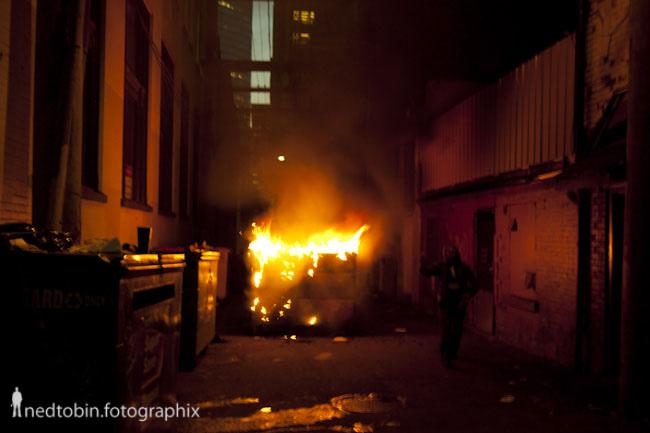fire: (248, 227, 362, 258)
